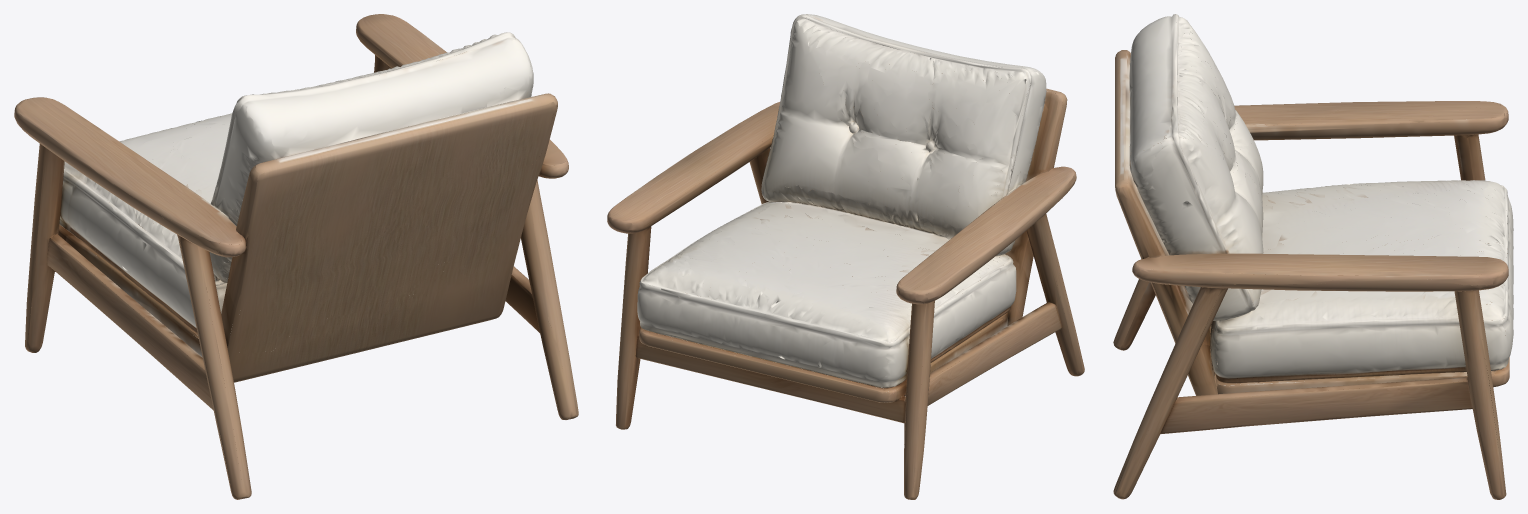
Rendered from Armchair.glb.
3 views of the same model, side by side, from view 1: azimuth 30°, elevation 25°; view 2: azimuth 150°, elevation 25°; view 3: azimuth 270°, elevation 25° (orthographic). The views are drawn at different scales.
Parts seen in each view (by area): view 1: node_0; view 2: node_0; view 3: node_0.
Part boxes in pixels (box(x1,y1,x2,y2)): node_0: box(14, 14, 578, 499); node_0: box(607, 14, 1084, 499); node_0: box(1113, 14, 1513, 499).
Size of the model in its own units: 0.7637 by 0.704 by 0.7308.
1 material, 1 textured.
